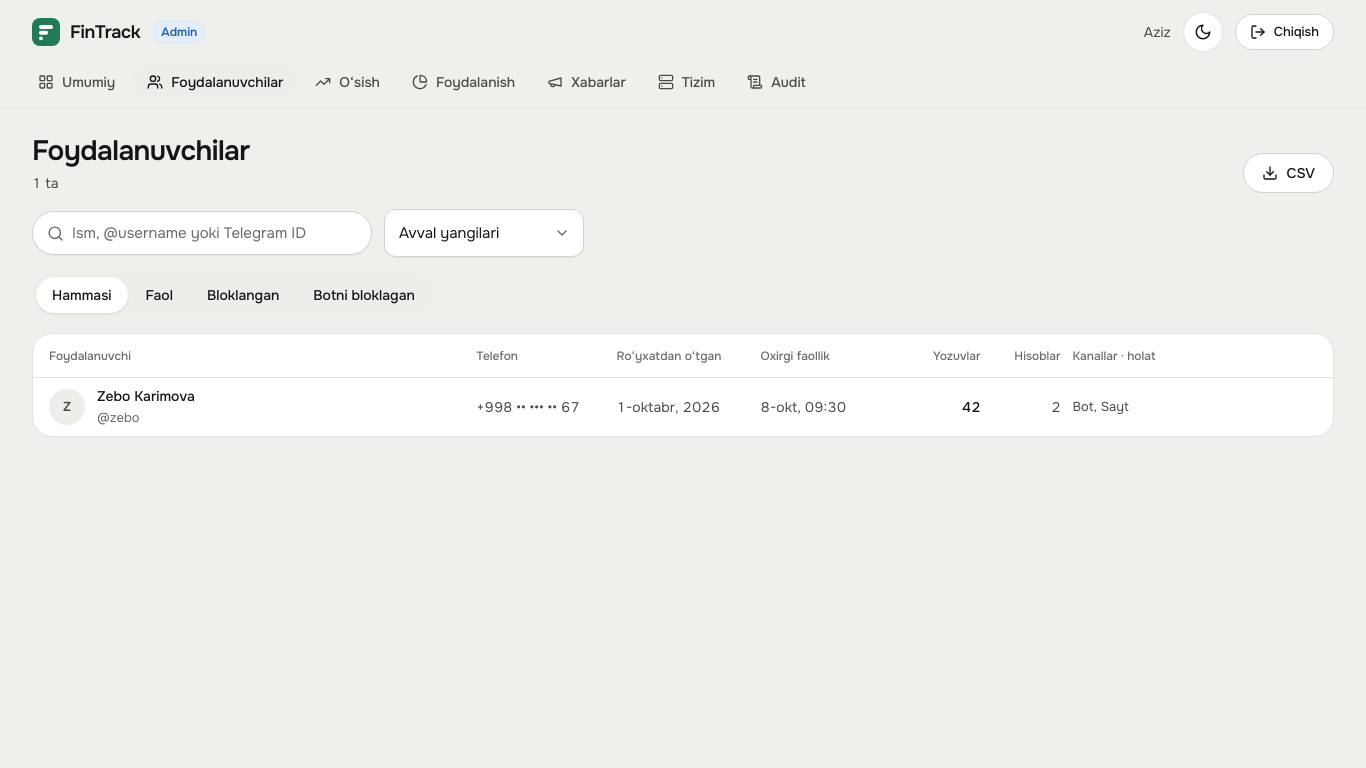
Scenario: Admin panel pages › users: search and the status tab become the request, and an empty result says so
The image size is (1366, 768).
Check: the table is shown, box [33, 334, 1333, 436]
Click the tab "Bloklangan" at {"x": 243, "y": 295}, box [191, 277, 295, 313]
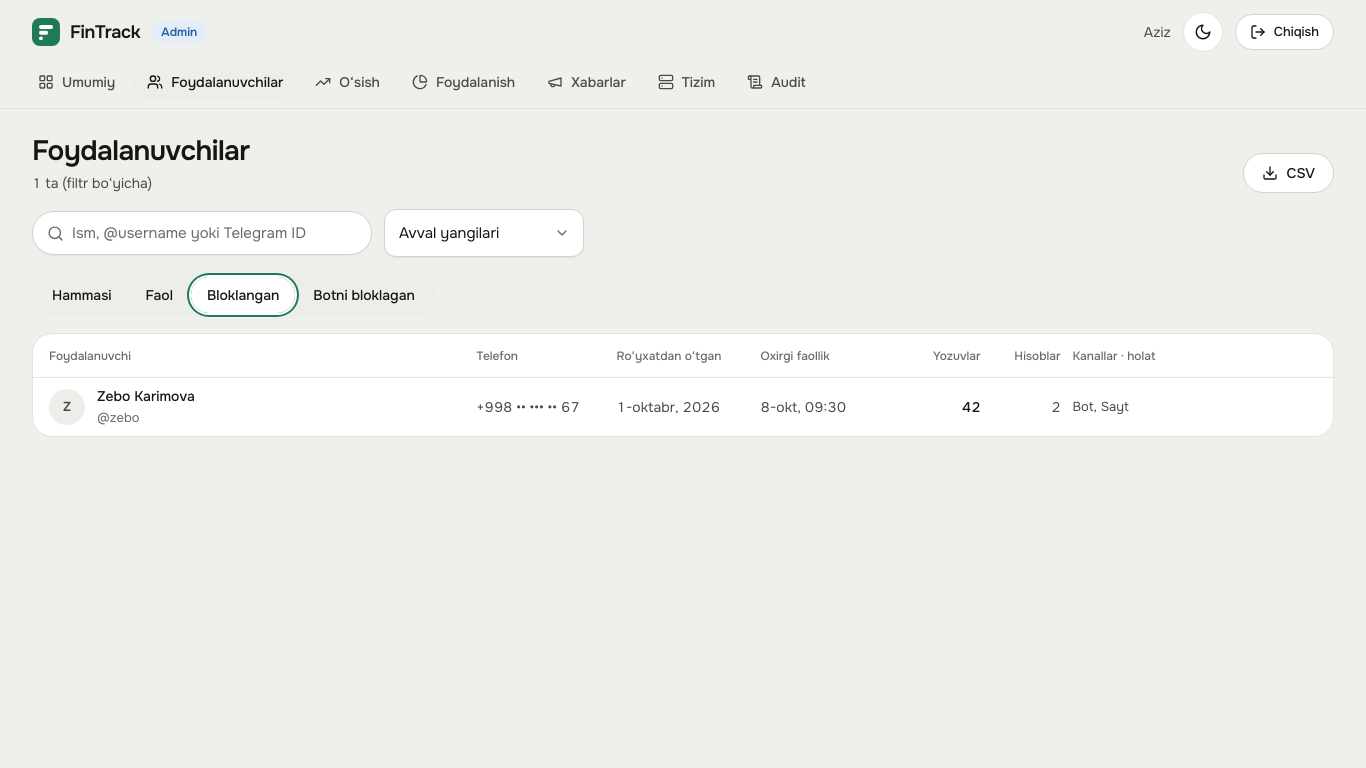
Type "yo‘q odam" into the search field named "Foydalanuvchini qidirish" at {"x": 218, "y": 233}, box [72, 212, 365, 254]
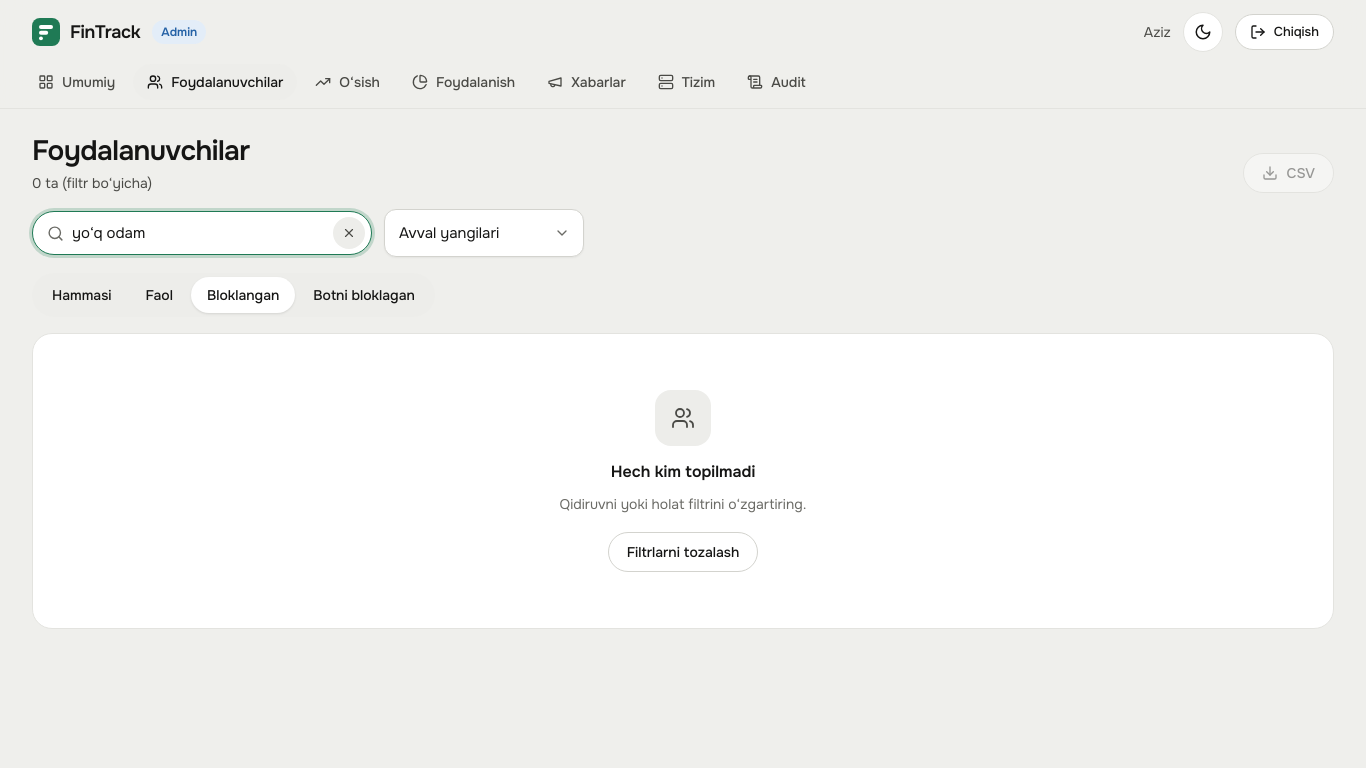
Check: the heading "Hech kim topilmadi" is shown, box [611, 460, 755, 484]
